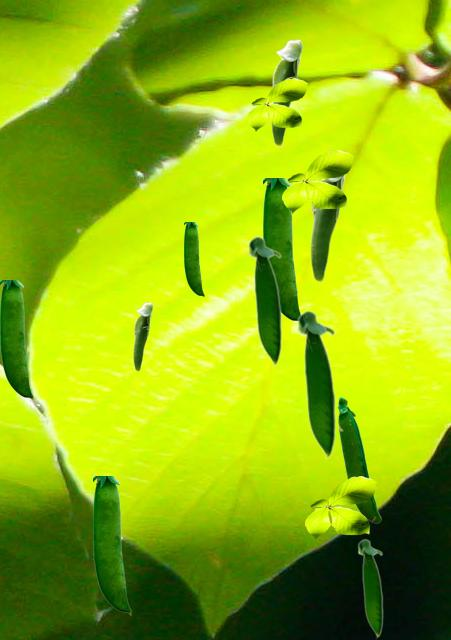pea: (296, 309, 335, 460), (337, 396, 380, 522), (263, 178, 300, 321), (93, 476, 130, 614), (247, 235, 281, 367), (310, 175, 347, 281), (0, 280, 32, 399), (271, 39, 302, 145), (357, 538, 382, 638), (184, 222, 203, 296), (133, 302, 152, 370)
